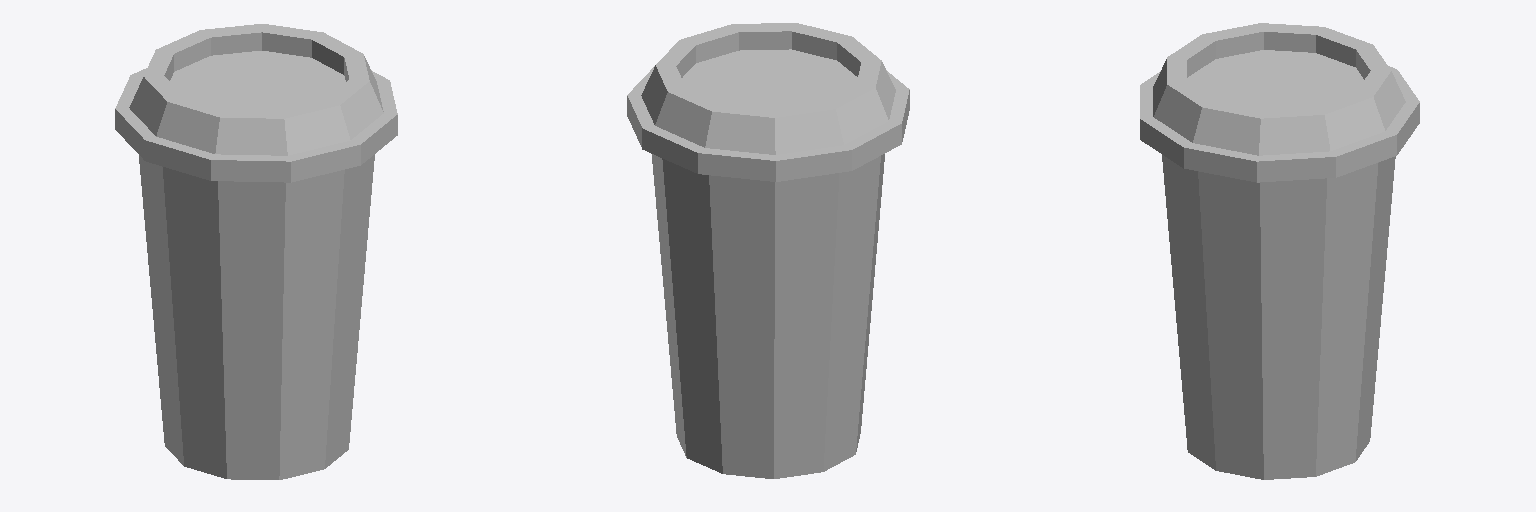
File: coffee.obj
3 renders of one model, left to right at view 1: azimuth 30°, elevation 25°; view 2: azimuth 150°, elevation 25°; view 3: azimuth 270°, elevation 25°, orthographic.
Parts seen in each view (by area): view 1: Cylinder.001_Mesh; view 2: Cylinder.001_Mesh; view 3: Cylinder.001_Mesh.
Boxes of the visible parts, x1=… form: Cylinder.001_Mesh: x1=115, y1=24, x2=397, y2=479; Cylinder.001_Mesh: x1=627, y1=23, x2=909, y2=478; Cylinder.001_Mesh: x1=1140, y1=23, x2=1419, y2=479.
Bounding box in the file's own units: 0.1544 × 0.223 × 0.1528.